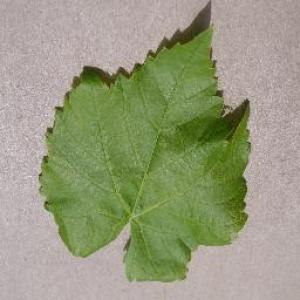Folha: (37, 6, 252, 282)
